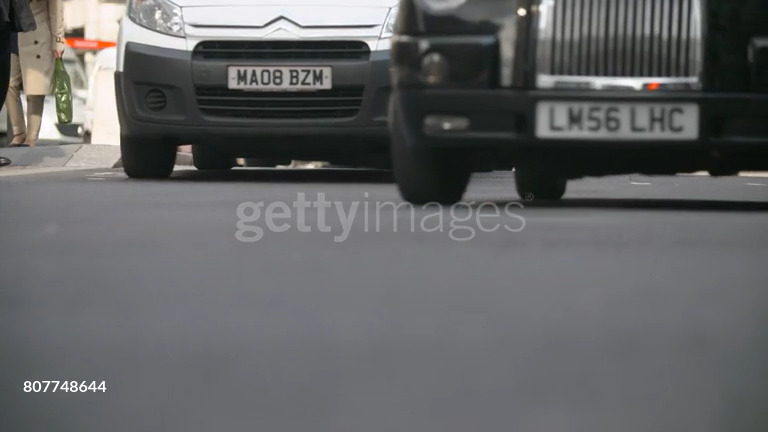car_number: (536, 102, 698, 139), (228, 66, 332, 91)
